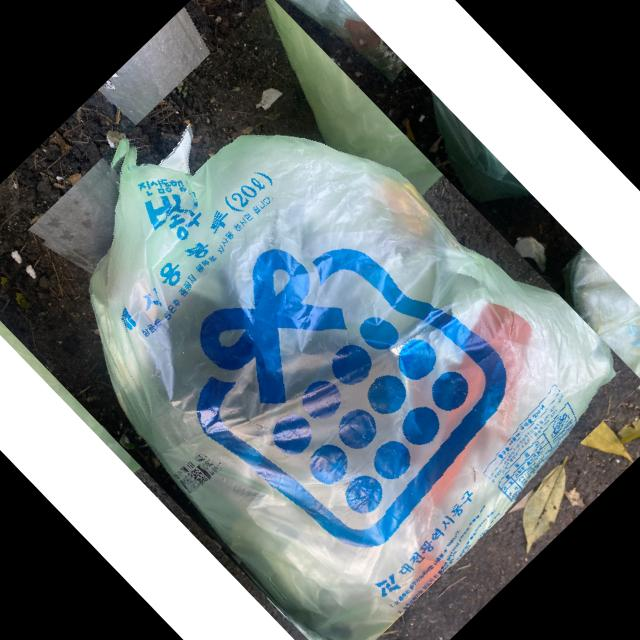general_trashbag: (88, 135, 614, 640)
